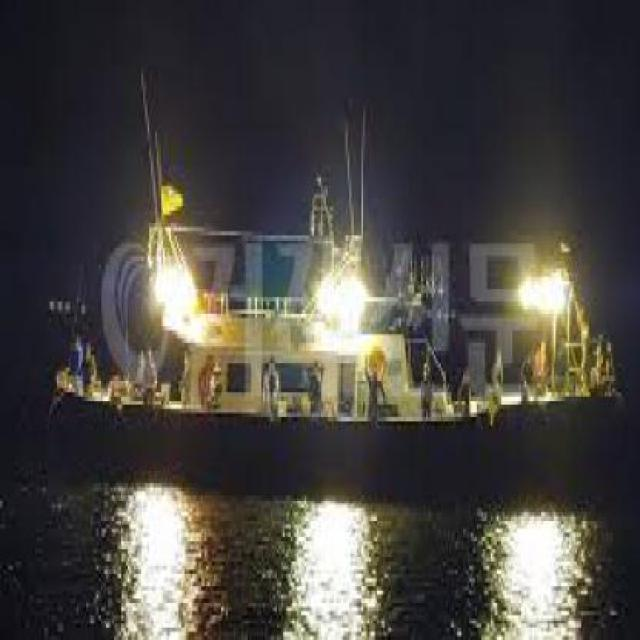fish-b: (37, 26, 640, 533)
